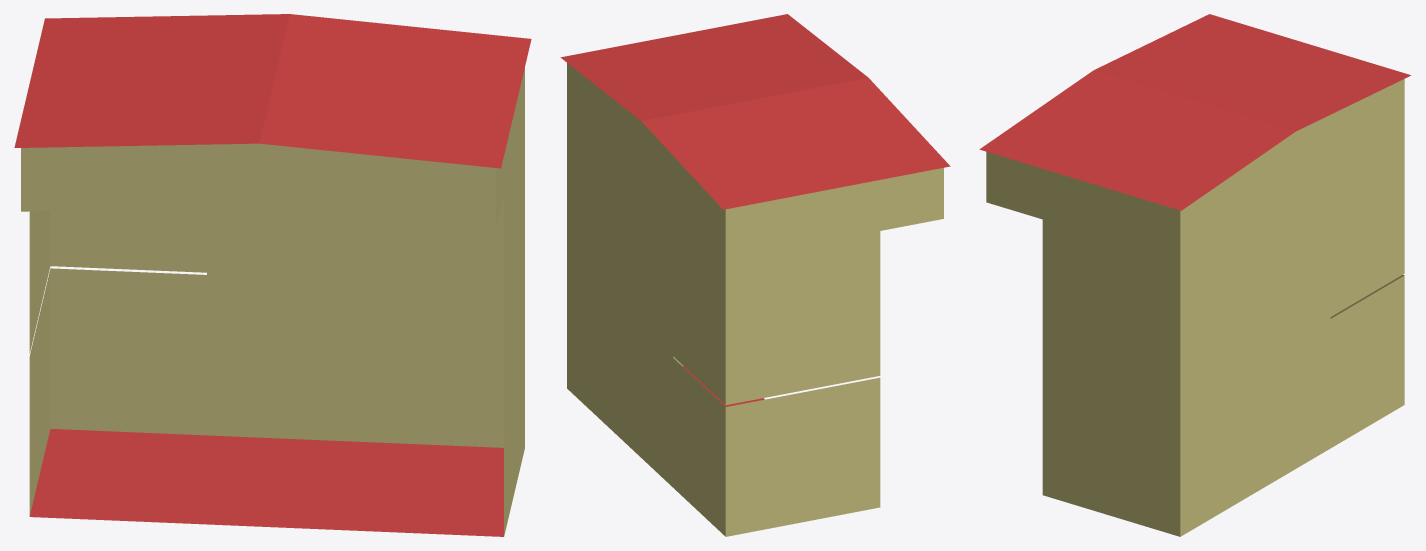
The picture shows the model from 3 angles, left to right: view 1: azimuth 30°, elevation 25°; view 2: azimuth 150°, elevation 25°; view 3: azimuth 270°, elevation 25°; orthographic projection. The views are drawn at different scales.
Bounding box in the file's own units: 23.49 × 21.81 × 18.97.
